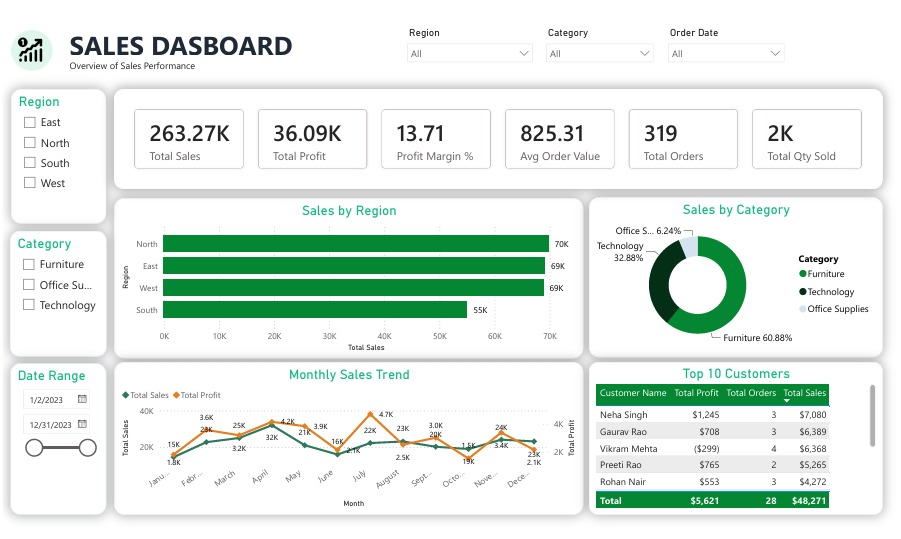

What the dashboard file says about the page in this screenshot:
{"tool":"powerbi","page":{"name":"Sales Dashboard","canvas":[1280,720],"ordinal":0},"visuals":[{"type":"clusteredBarChart","title":"Sales by Region","fields":{"Category":["Cleaned Data.Region"],"Y":["Cleaned Data.Total Sales"]},"box":[160,250,675.7,231.4],"z":0},{"type":"lineChart","title":"Monthly Sales Trend","fields":{"Category":["Cleaned Data.Order Date.Variation.Date Hierarchy.Month"],"Y":["Cleaned Data.Total Sales"],"Y2":["Cleaned Data.Total Profit"]},"box":[160,487.1,675.7,220],"z":1000},{"type":"donutChart","title":"Sales by Category","fields":{"Category":["Cleaned Data.Category"],"Y":["Cleaned Data.Total Sales"]},"box":[844.3,248.6,422.9,231.4],"z":2000},{"type":"tableEx","title":"Top 10 Customers","fields":{"Values":["Cleaned Data.Customer Name","Cleaned Data.Total Profit","Cleaned Data.Total Orders","Cleaned Data.Total Sales"]},"box":[844.3,487.1,422.9,220],"z":3000},{"type":"slicer","title":"Region","fields":{"Values":["Cleaned Data.Region"]},"box":[11.4,94.3,137.1,194.3],"z":4000},{"type":"slicer","title":"Category","fields":{"Values":["Cleaned Data.Category"]},"box":[10,298.6,138.6,181.4],"z":5000},{"type":"slicer","title":"Date Range","fields":{"Values":["Cleaned Data.Order Date"]},"box":[10,488.6,138.6,218.6],"z":6000},{"type":"shape","box":[11.2,8.8,60,58.8],"z":7000},{"type":"image","box":[0,16.2,80,43.8],"z":8000},{"type":"textbox","box":[91.2,0,548.8,68.8],"z":9000},{"type":"textbox","box":[91.2,46.2,300,27.5],"z":10000},{"type":"slicer","fields":{"Values":["Cleaned Data.Region"]},"box":[571.2,0,201.2,60],"z":11000},{"type":"slicer","fields":{"Values":["Cleaned Data.Category"]},"box":[772.5,0,175,60],"z":12000},{"type":"slicer","fields":{"Values":["Cleaned Data.Order Date"]},"box":[947.5,0,187.5,75],"z":13000},{"type":"cardVisual","fields":{"Data":["Cleaned Data.Total Sales","Cleaned Data.Total Profit","Cleaned Data.Profit Margin %","Cleaned Data.Avg Order Value","Cleaned Data.Total Orders","Cleaned Data.Total Qty Sold"]},"box":[160,94.3,1107.1,144.3],"z":13001}]}

Visuals, with their boxes on the page's 1280x720 design canvas (x1, y1, x2, y2). These are canvas units, not pixel positions in the 901x539 screenshot, which may show the page scaled, cropped or inside an application window:
"Sales by Region" clusteredBarChart: pyautogui.locateOnScreen(160, 250, 836, 481)
"Monthly Sales Trend" lineChart: pyautogui.locateOnScreen(160, 487, 836, 707)
"Sales by Category" donutChart: pyautogui.locateOnScreen(844, 249, 1267, 480)
"Top 10 Customers" tableEx: pyautogui.locateOnScreen(844, 487, 1267, 707)
"Region" slicer: pyautogui.locateOnScreen(11, 94, 148, 289)
"Category" slicer: pyautogui.locateOnScreen(10, 299, 149, 480)
"Date Range" slicer: pyautogui.locateOnScreen(10, 489, 149, 707)
shape: pyautogui.locateOnScreen(11, 9, 71, 68)
image: pyautogui.locateOnScreen(0, 16, 80, 60)
textbox: pyautogui.locateOnScreen(91, 0, 640, 69)
textbox: pyautogui.locateOnScreen(91, 46, 391, 74)
slicer - Cleaned Data.Region: pyautogui.locateOnScreen(571, 0, 772, 60)
slicer - Cleaned Data.Category: pyautogui.locateOnScreen(772, 0, 948, 60)
slicer - Cleaned Data.Order Date: pyautogui.locateOnScreen(948, 0, 1135, 75)
cardVisual - Cleaned Data.Total Sales x Cleaned Data.Total Profit: pyautogui.locateOnScreen(160, 94, 1267, 239)
